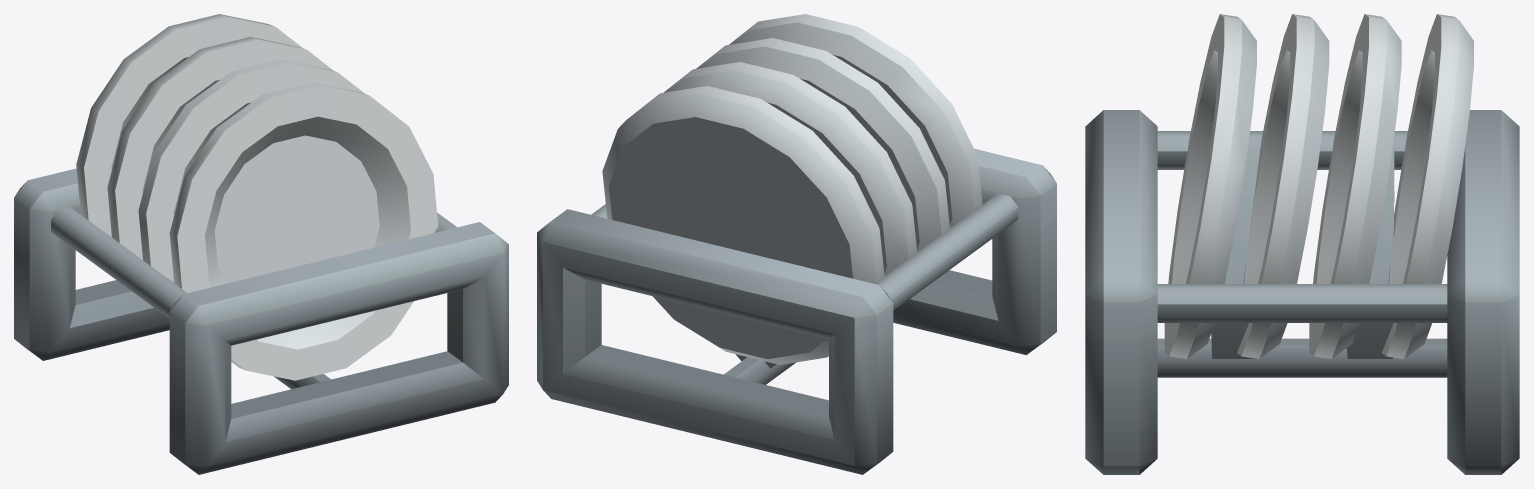
File: dishrack-plates.glb
3 renders of one model, left to right at view 1: azimuth 30°, elevation 25°; view 2: azimuth 150°, elevation 25°; view 3: azimuth 270°, elevation 25°, orthographic. The views are drawn at different scales.
Parts seen in each view (by area): view 1: dishrack_plates; view 2: dishrack_plates; view 3: dishrack_plates.
Part boxes in pixels (left/top/right/bottom): dishrack_plates: left=14, top=14, right=508, bottom=474; dishrack_plates: left=537, top=14, right=1056, bottom=474; dishrack_plates: left=1085, top=14, right=1519, bottom=474.
Size of the model in its own units: 1.2 by 1.1 by 1.2.
1 material, 1 textured.
